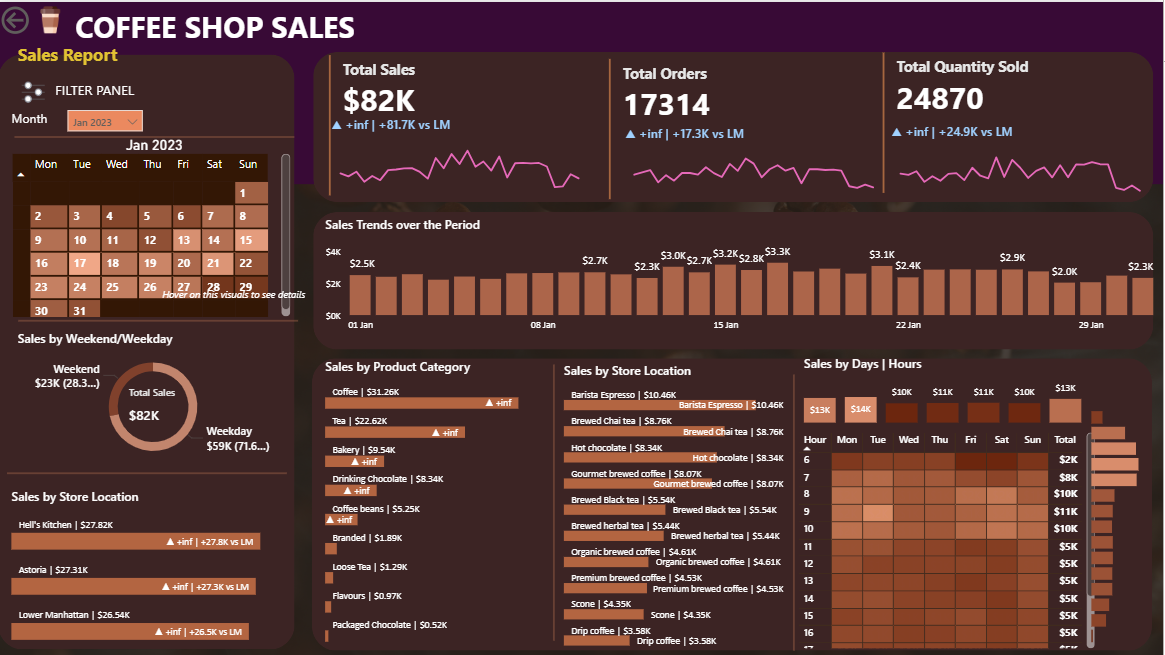

This screenshot's page, from the dashboard's own definition file:
{"tool":"powerbi","page":{"name":"Page 1","canvas":[1280,720],"ordinal":0},"visuals":[{"type":"shape","box":[0,0,1280.3,200.3],"z":0},{"type":"shape","box":[1.4,57.6,325.2,653.2],"z":1000},{"type":"shape","box":[347.2,54.9,922.1,164.7],"z":2000},{"type":"textbox","box":[17.8,39.8,135.8,43.9],"z":3000},{"type":"cardVisual","fields":{"Data":["Transactions.Total Sales"]},"box":[359.5,53.5,300.5,164.7],"z":4000,"group":"g1"},{"type":"cardVisual","fields":{"Data":["Transactions.Total Orders"]},"box":[666.7,57.1,300,164.3],"z":4000},{"type":"cardVisual","fields":{"Data":["Transactions.Total Quantity Sold"]},"box":[967.1,51.4,300,164.3],"z":5000},{"type":"group","id":"g1","title":"Group 1","box":[359.5,53.5,300.5,164.7],"z":6000},{"type":"lineChart","fields":{"Y":["Transactions.Total Sales"],"Category":["Date Table.Date.Variation.Date Hierarchy.Year","Date Table.Date.Variation.Date Hierarchy.Quarter","Date Table.Date.Variation.Date Hierarchy.Month","Date Table.Date.Variation.Date Hierarchy.Day"]},"box":[362.8,124.5,291.4,85.7],"z":6000,"group":"g1"},{"type":"lineChart","fields":{"Category":["Date Table.Date.Variation.Date Hierarchy.Year","Date Table.Date.Variation.Date Hierarchy.Quarter","Date Table.Date.Variation.Date Hierarchy.Month","Date Table.Date.Variation.Date Hierarchy.Day"],"Y":["Transactions.Total Orders"]},"box":[684.3,134.3,292.3,85.1],"z":6000,"group":"g2"},{"type":"lineChart","fields":{"Category":["Date Table.Date.Variation.Date Hierarchy.Year","Date Table.Date.Variation.Date Hierarchy.Quarter","Date Table.Date.Variation.Date Hierarchy.Month","Date Table.Date.Variation.Date Hierarchy.Day"],"Y":["Transactions.Total Quantity Sold"]},"box":[977.1,132.9,292.9,85.7],"z":7000},{"type":"group","id":"g2","title":"Group 1","box":[684.3,134.3,291.4,85.7],"z":8000},{"type":"pivotTable","fields":{"Columns":["Date Table.Day Name"],"Values":["Min(Date Table.Day number)"],"Rows":["Date Table.Week Number"]},"box":[12.3,161.9,314.2,188],"z":9000},{"type":"card","fields":{"Values":["Min(Date Table.Month Year)"]},"box":[111.1,130.4,123.5,56.3],"z":10000},{"type":"card","fields":{"Values":["Transactions.Foot Note"]},"box":[153.7,303.3,212.7,41.2],"z":11000},{"type":"shape","box":[19.2,142.7,307.4,11],"z":12000},{"type":"shape","box":[23.3,344.4,307.4,11],"z":13000},{"type":"donutChart","title":"Sales by Weekend/Weekday","fields":{"Category":["Date Table.Weekday/Weekend"],"Y":["Transactions.Total Sales"]},"box":[17.8,359.5,307.4,152.3],"z":14000},{"type":"cardVisual","fields":{"Data":["Transactions.Total Sales"]},"box":[127.6,404.8,89.2,63.1],"z":15000},{"type":"shape","box":[11,511.8,307.4,11],"z":16000},{"type":"clusteredBarChart","title":"Sales by Store Location","fields":{"Y":["Transactions.Placeholder","Transactions.Total Sales"],"Category":["Transactions.store_location"]},"box":[11,533.8,307.4,174.3],"z":17000},{"type":"shape","box":[347.2,230.5,922.1,150.9],"z":18000},{"type":"columnChart","title":"Sales Trends over the Period","fields":{"Y":["Transactions.Total Sales"],"Category":["Transactions.transaction_date"]},"box":[355.4,234.6,922.1,137.2],"z":19000},{"type":"shape","box":[345.8,391.1,922.1,321.1],"z":20000},{"type":"clusteredBarChart","title":"Sales by Product Category","fields":{"Y":["Transactions.Placeholder","Transactions.Total Sales"],"Category":["Transactions.product_category"]},"box":[355.4,391.1,249.7,317],"z":21000},{"type":"clusteredBarChart","title":"Sales by Store Location","fields":{"Y":["Transactions.Placeholder","Transactions.Total Sales"],"Category":["Transactions.product_type"]},"box":[617.5,395.2,251.1,317],"z":22000},{"type":"shape","box":[605.1,397.9,12.3,303.3],"z":23000},{"type":"shape","box":[868.6,408.9,12.3,303.3],"z":24000},{"type":"pivotTable","fields":{"Rows":["Transactions.Hour"],"Columns":["Date Table.Day Name"],"Values":["Transactions.Total Sales"]},"box":[875.5,467.9,334.8,247],"z":25000},{"type":"barChart","fields":{"Y":["Transactions.Total Sales"],"Category":["Transactions.Hour"]},"box":[1196.6,436.4,83.7,271.7],"z":26000},{"type":"columnChart","title":"Sales by Days | Hours","fields":{"Y":["Transactions.Total Sales"],"Category":["Date Table.Day Name"]},"box":[881,387,315.6,81],"z":27000},{"type":"actionButton","box":[0,0,100,40],"z":28000},{"type":"slicer","fields":{"Values":["Date Table.Month Year"]},"box":[72.7,113.9,91.9,32.9],"z":29000},{"type":"textbox","box":[11,113.9,70,28.8],"z":30000},{"type":"textbox","box":[81,0,330.7,54.9],"z":31000},{"type":"textbox","box":[59,81,100.2,32.9],"z":32000},{"type":"image","box":[11,81,57.6,37],"z":32001},{"type":"image","box":[26.1,0,64.5,39.8],"z":32002}]}

Visuals, with their boxes in screenshot pixels (x1, y1, x2, y2), scaled from the page's 1280x720 canvas onto the 1165x655 screenshot:
shape: box=[0, 0, 1164, 182]
shape: box=[1, 52, 297, 647]
shape: box=[316, 50, 1155, 200]
textbox: box=[16, 36, 140, 76]
cardVisual - Transactions.Total Sales: box=[327, 49, 601, 199]
cardVisual - Transactions.Total Orders: box=[607, 52, 880, 201]
cardVisual - Transactions.Total Quantity Sold: box=[880, 47, 1153, 196]
"Group 1" group: box=[327, 49, 601, 199]
lineChart - Transactions.Total Sales x Date Table.Date.Variation.Date Hierarchy.Year: box=[330, 113, 595, 191]
lineChart - Date Table.Date.Variation.Date Hierarchy.Year x Date Table.Date.Variation.Date Hierarchy.Quarter: box=[623, 122, 889, 200]
lineChart - Date Table.Date.Variation.Date Hierarchy.Year x Date Table.Date.Variation.Date Hierarchy.Quarter: box=[889, 121, 1156, 199]
"Group 1" group: box=[623, 122, 888, 200]
pivotTable - Date Table.Day Name x Min(Date Table.Day number): box=[11, 147, 297, 318]
card - Min(Date Table.Month Year): box=[101, 119, 214, 170]
card - Transactions.Foot Note: box=[140, 276, 333, 313]
shape: box=[17, 130, 297, 140]
shape: box=[21, 313, 301, 323]
"Sales by Weekend/Weekday" donutChart: box=[16, 327, 296, 466]
cardVisual - Transactions.Total Sales: box=[116, 368, 197, 426]
shape: box=[10, 466, 290, 476]
"Sales by Store Location" clusteredBarChart: box=[10, 486, 290, 644]
shape: box=[316, 210, 1155, 347]
"Sales Trends over the Period" columnChart: box=[323, 213, 1163, 338]
shape: box=[315, 356, 1154, 648]
"Sales by Product Category" clusteredBarChart: box=[323, 356, 551, 644]
"Sales by Store Location" clusteredBarChart: box=[562, 360, 791, 648]
shape: box=[551, 362, 562, 638]
shape: box=[791, 372, 802, 648]
pivotTable - Transactions.Hour x Date Table.Day Name: box=[797, 426, 1102, 650]
barChart - Transactions.Total Sales x Transactions.Hour: box=[1089, 397, 1164, 644]
"Sales by Days | Hours" columnChart: box=[802, 352, 1089, 426]
actionButton: box=[0, 0, 91, 36]
slicer - Date Table.Month Year: box=[66, 104, 150, 134]
textbox: box=[10, 104, 74, 130]
textbox: box=[74, 0, 375, 50]
textbox: box=[54, 74, 145, 104]
image: box=[10, 74, 62, 107]
image: box=[24, 0, 82, 36]
